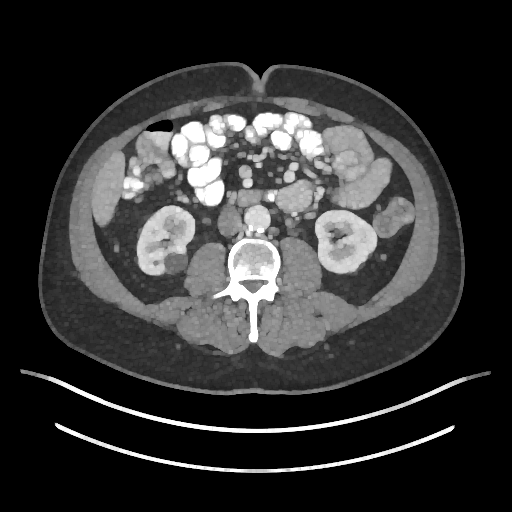Lesion: (161, 250, 189, 276)
